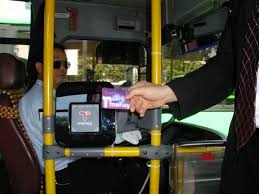terminal: (52, 80, 120, 148)
